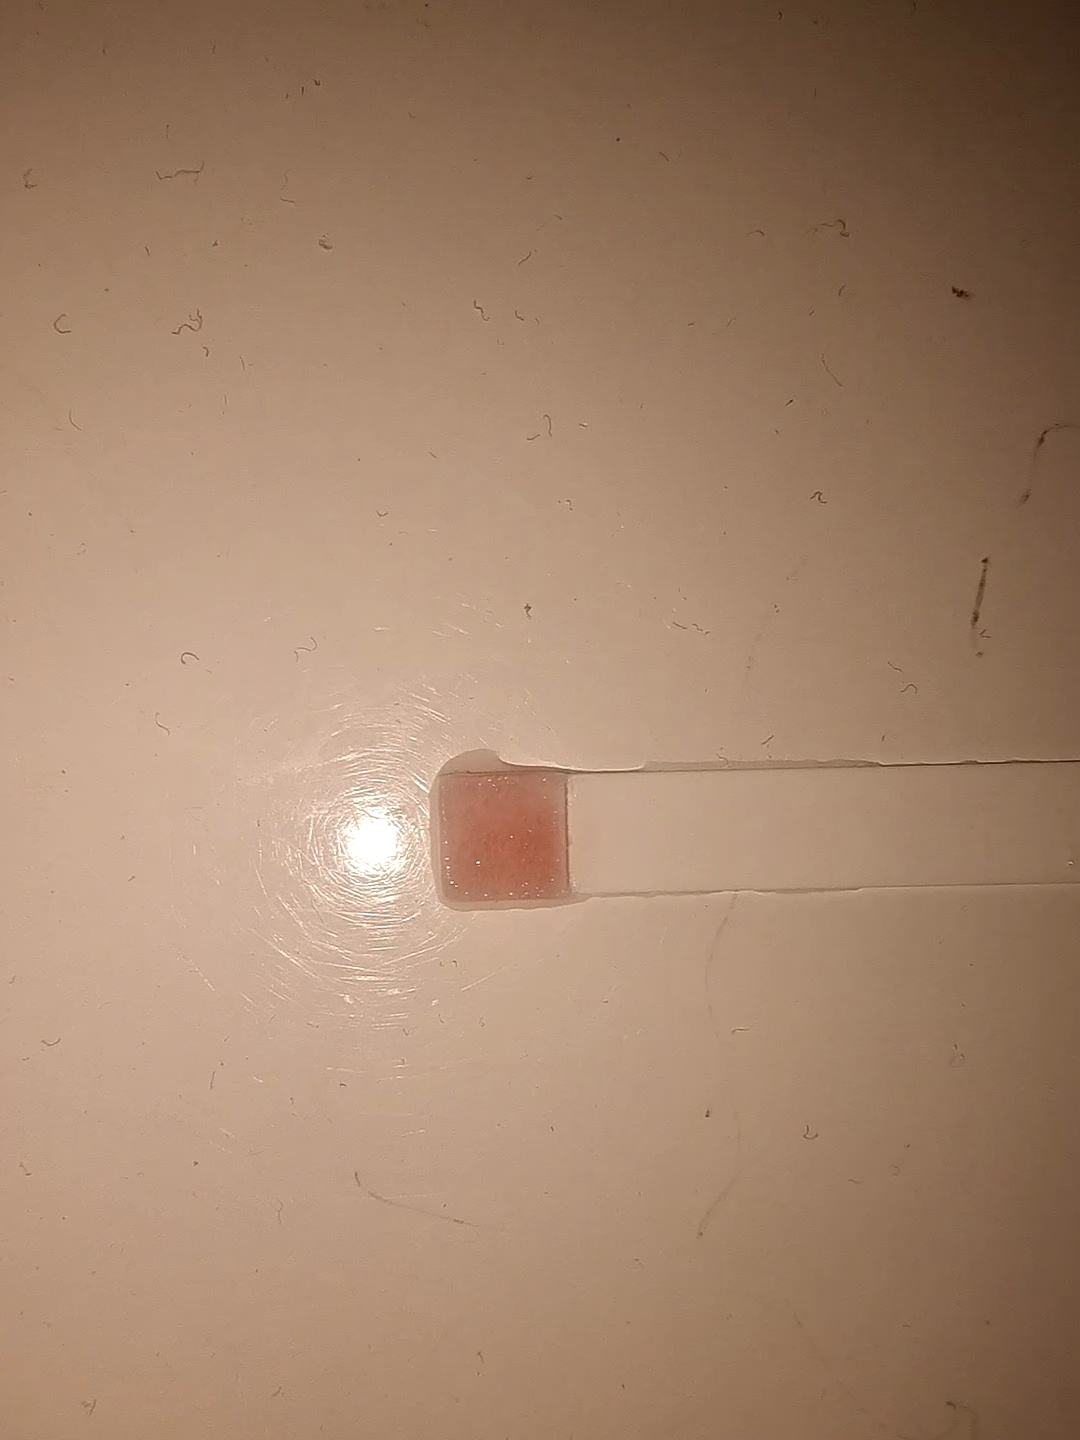keto-tip: (427, 766, 580, 912)
